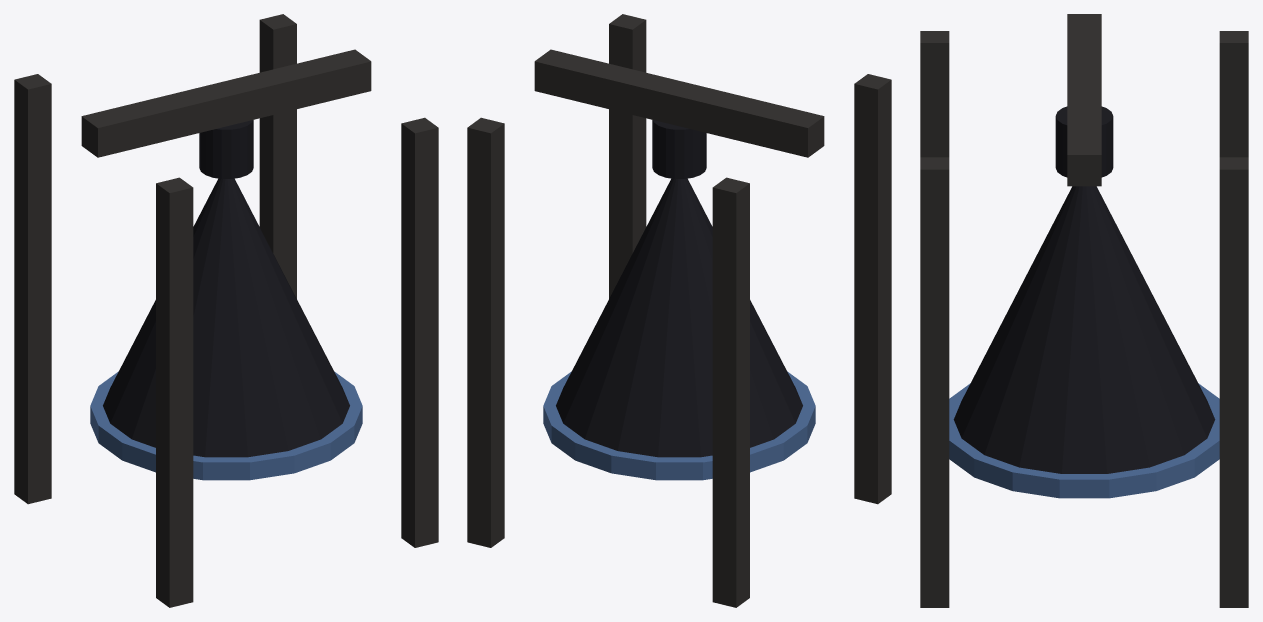
File: great-bell.4883796b.glb
3 views of the same model, side by side, from view 1: azimuth 30°, elevation 25°; view 2: azimuth 150°, elevation 25°; view 3: azimuth 270°, elevation 25° (orthographic). The views are drawn at different scales.
Visible parts, largest first — view 1: body; view 2: body; view 3: body.
Part boxes in pixels (left/top/right/bottom): body: left=14, top=14, right=438, bottom=607; body: left=467, top=14, right=891, bottom=607; body: left=920, top=14, right=1248, bottom=607.
Bounding box in the file's own units: 2.9 × 4.35 × 2.85.
